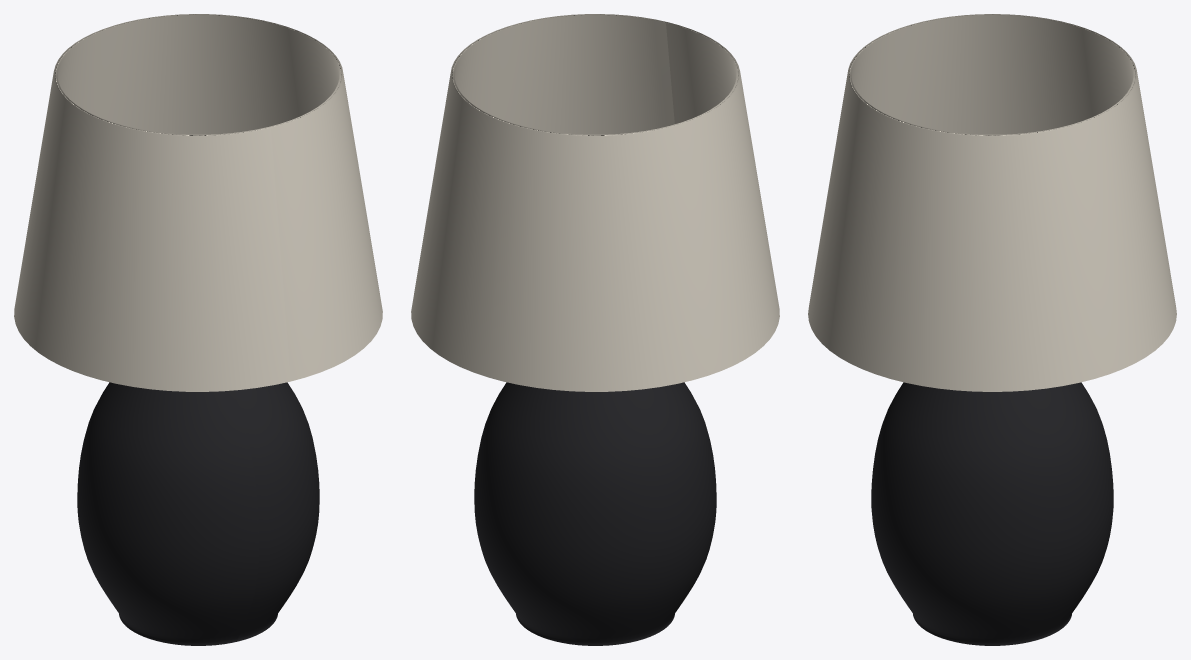
The model's file is black.glb.
3 renders of one model, left to right at view 1: azimuth 30°, elevation 25°; view 2: azimuth 150°, elevation 25°; view 3: azimuth 270°, elevation 25°, orthographic.
Visible parts, largest first — view 1: Shade, Base; view 2: Shade, Base; view 3: Shade, Base.
Boxes of the visible parts, bbox=[...] form: Shade: bbox=[14, 14, 382, 391]; Base: bbox=[77, 382, 319, 645]; Shade: bbox=[411, 14, 779, 391]; Base: bbox=[474, 382, 716, 645]; Shade: bbox=[808, 14, 1176, 391]; Base: bbox=[871, 382, 1113, 645].
Bounding box in the file's own units: 0.28 × 0.45 × 0.28.
